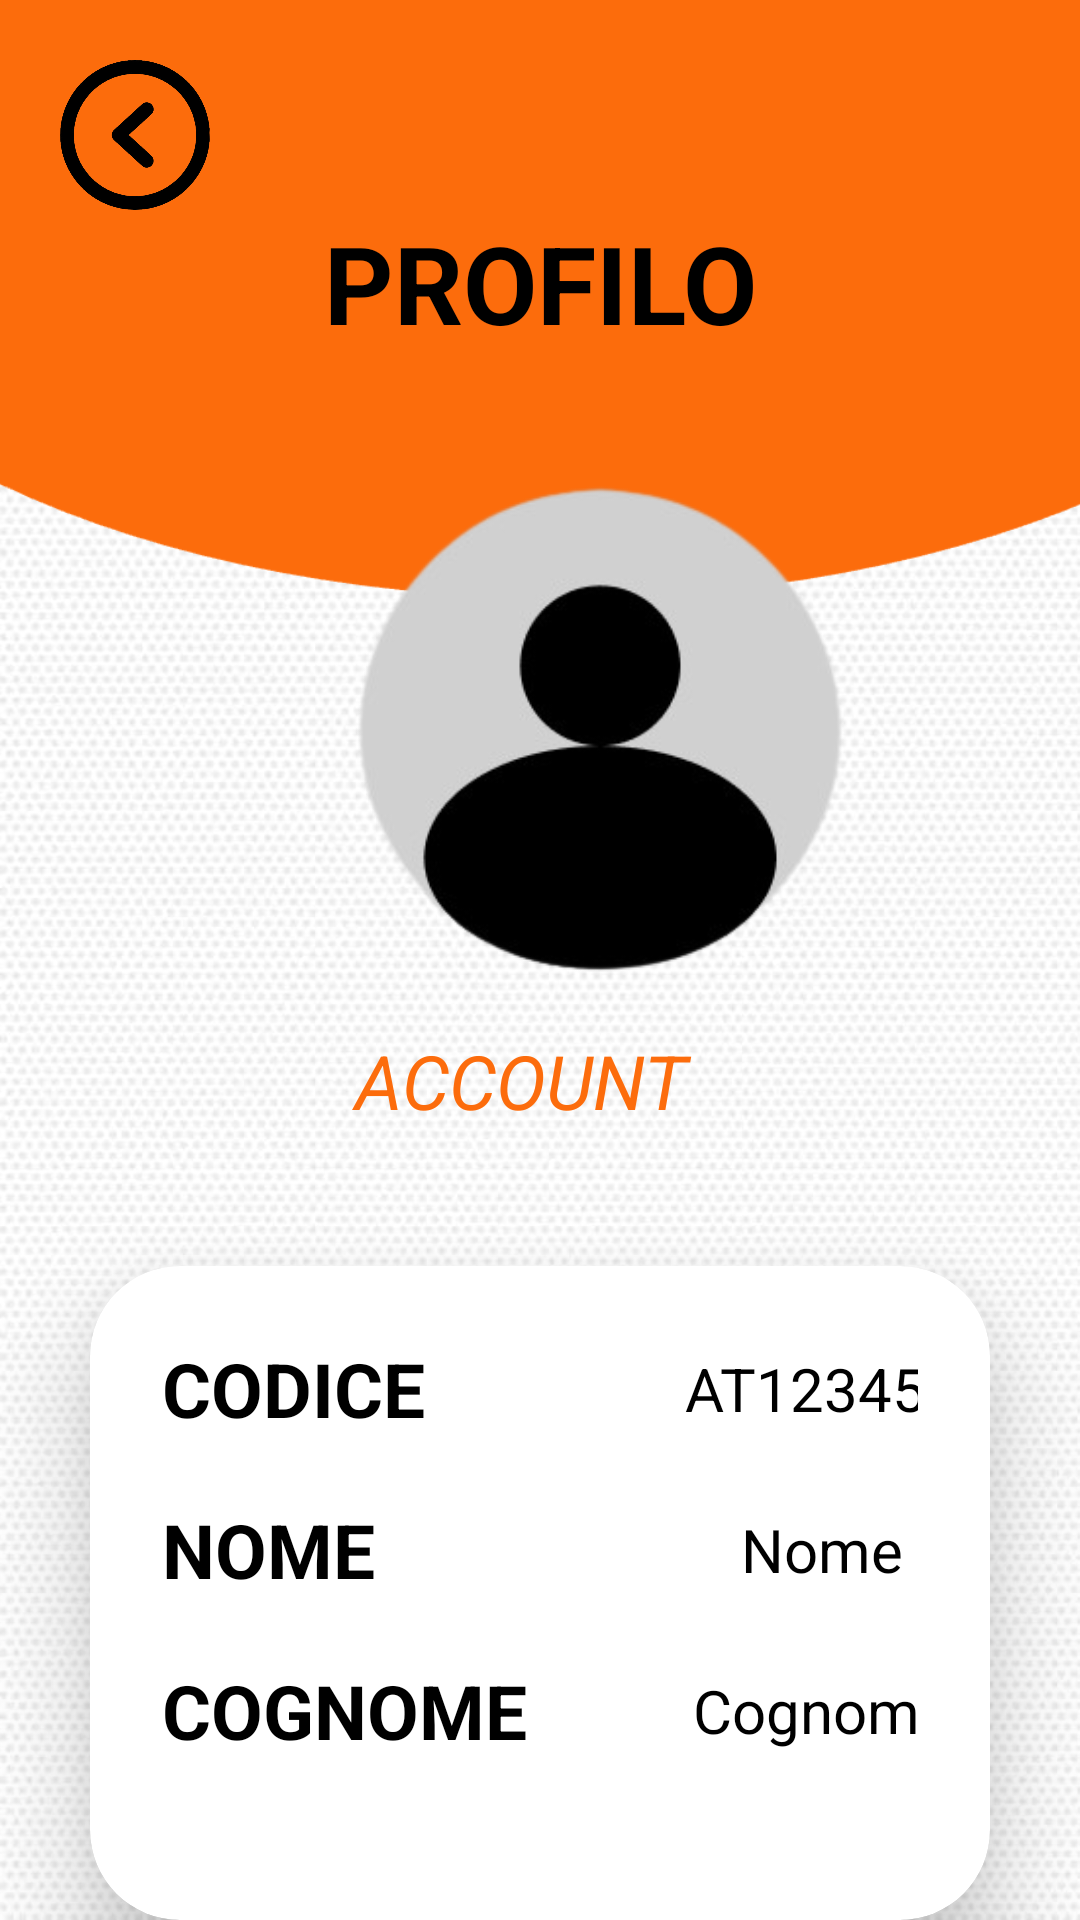

Point at icon controls on the screen. Image size 1080px x 1920px, points as [x,y].
freccia: [135,135]
